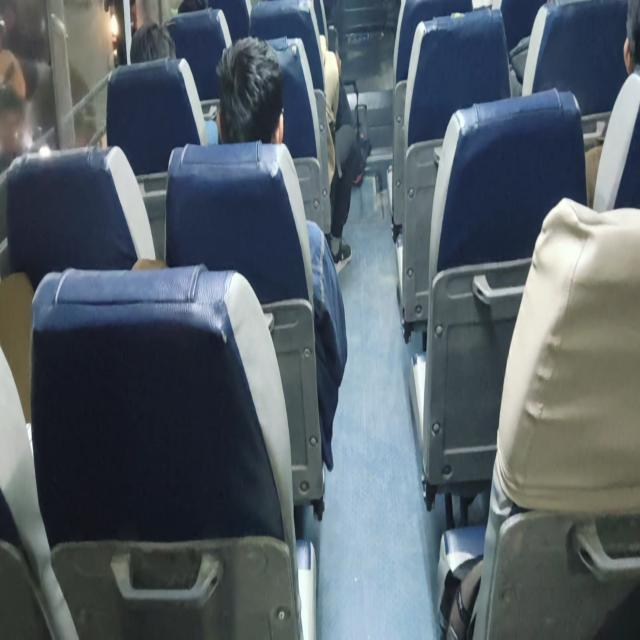person: (217, 41, 278, 136), (115, 24, 173, 83), (618, 5, 640, 91)
